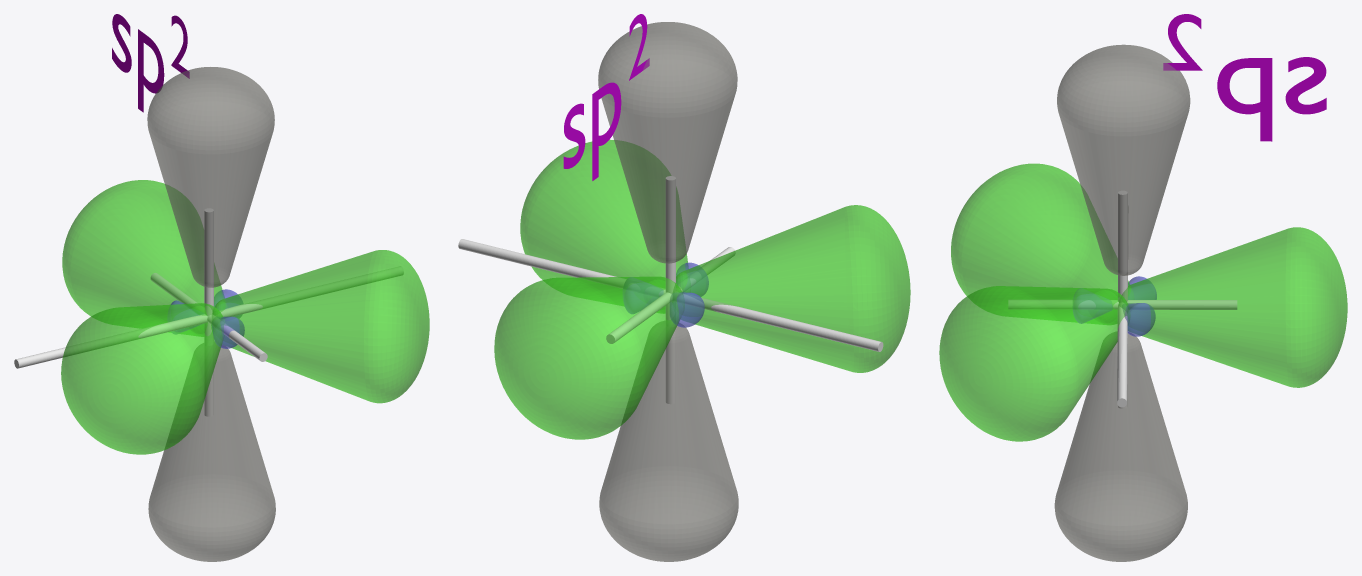
The picture shows the model from 3 angles, left to right: view 1: azimuth 30°, elevation 25°; view 2: azimuth 150°, elevation 25°; view 3: azimuth 270°, elevation 25°; orthographic projection. The views are drawn at different scales.
Visible parts, largest first — view 1: suborbital p.003, suborbital p.005, suborbital p.009, suborbital p.008, suborbital p.007, Cylinder.001, Cylinder, Text, Cylinder.002, suborbital p.006; view 2: suborbital p.005, suborbital p.007, suborbital p.008, suborbital p.009, suborbital p.003, Cylinder.001, Cylinder, Text, Cylinder.002, suborbital p.002, suborbital p.004, suborbital p.006; view 3: suborbital p.007, suborbital p.003, suborbital p.009, suborbital p.008, suborbital p.005, Text, Cylinder.002, Cylinder, Cylinder.001, Text.001, suborbital p.004, suborbital p.006 (+1 smaller).
Boxes of the visible parts, x1=… form: suborbital p.003: x1=211, y1=250, x2=429, y2=403; suborbital p.005: x1=61, y1=303, x2=224, y2=454; suborbital p.009: x1=147, y1=67, x2=274, y2=287; suborbital p.008: x1=148, y1=342, x2=275, y2=561; suborbital p.007: x1=62, y1=180, x2=225, y2=336; Cylinder.001: x1=14, y1=266, x2=403, y2=368; Cylinder: x1=204, y1=208, x2=213, y2=416; Text: x1=112, y1=14, x2=164, y2=112; Cylinder.002: x1=150, y1=273, x2=267, y2=361; suborbital p.006: x1=212, y1=316, x2=244, y2=348; suborbital p.005: x1=673, y1=205, x2=910, y2=372; suborbital p.007: x1=494, y1=276, x2=684, y2=439; suborbital p.008: x1=599, y1=321, x2=738, y2=561; suborbital p.009: x1=598, y1=22, x2=737, y2=263; suborbital p.003: x1=520, y1=139, x2=690, y2=313; Cylinder.001: x1=458, y1=239, x2=883, y2=351; Cylinder: x1=665, y1=176, x2=675, y2=404; Text: x1=563, y1=82, x2=621, y2=180; Cylinder.002: x1=606, y1=247, x2=735, y2=343; suborbital p.002: x1=670, y1=292, x2=704, y2=327; suborbital p.004: x1=623, y1=277, x2=663, y2=313; suborbital p.006: x1=676, y1=262, x2=708, y2=296; suborbital p.007: x1=1119, y1=227, x2=1347, y2=387; suborbital p.003: x1=939, y1=286, x2=1129, y2=441; suborbital p.009: x1=1057, y1=44, x2=1190, y2=275; suborbital p.008: x1=1054, y1=332, x2=1187, y2=561; suborbital p.005: x1=951, y1=163, x2=1130, y2=324; Text: x1=1217, y1=57, x2=1326, y2=141; Cylinder.002: x1=1008, y1=300, x2=1237, y2=309; Cylinder: x1=1118, y1=190, x2=1127, y2=408; Cylinder.001: x1=1117, y1=206, x2=1128, y2=407; Text.001: x1=1163, y1=14, x2=1202, y2=70; suborbital p.004: x1=1122, y1=303, x2=1155, y2=336; suborbital p.006: x1=1073, y1=288, x2=1112, y2=323.
Size of the model in its own units: 3.42 by 4.39 by 3.01.
